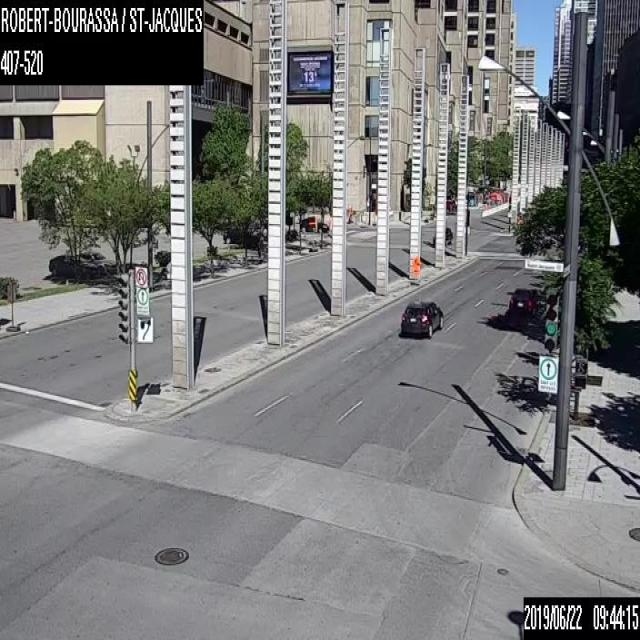construction: (411, 256, 420, 276)
vehicle: (398, 297, 443, 339), (48, 253, 96, 279), (508, 288, 548, 316), (82, 250, 115, 274), (222, 226, 260, 246), (299, 215, 328, 232), (432, 227, 452, 245)
